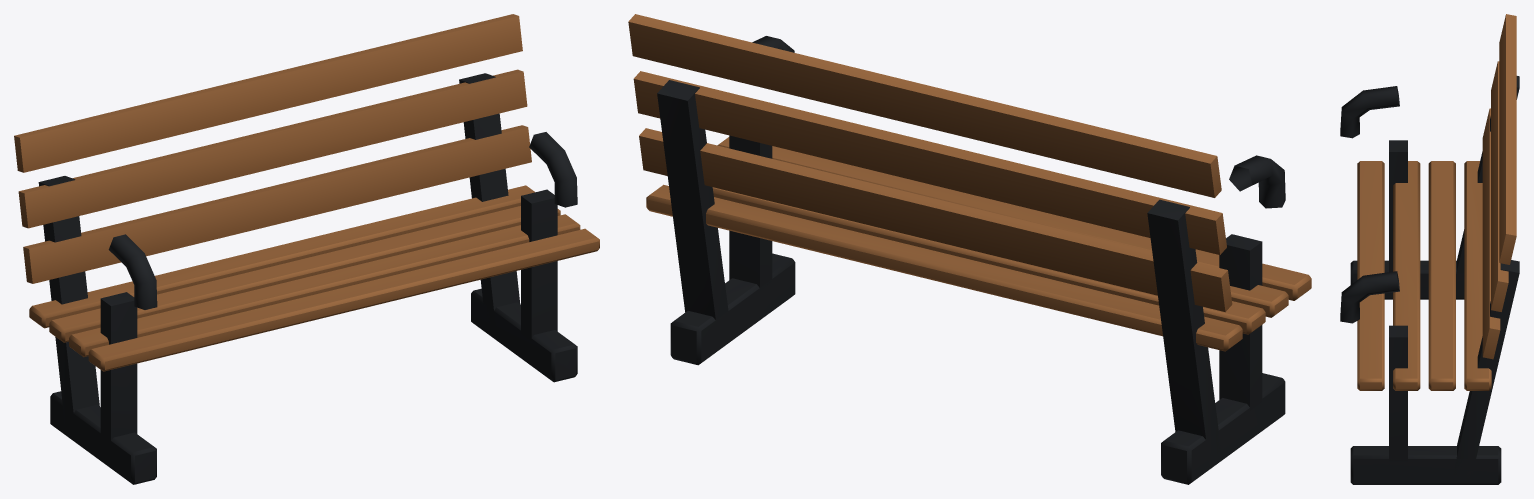
Rendered from banca.glb.
The picture shows the model from 3 angles, left to right: view 1: azimuth 30°, elevation 25°; view 2: azimuth 150°, elevation 25°; view 3: azimuth 270°, elevation 25°; orthographic projection. The views are drawn at different scales.
Visible parts, largest first — view 1: banca; view 2: banca; view 3: banca.
Part boxes in pixels (x1=…): banca: x1=14, y1=14, x2=599, y2=484; banca: x1=628, y1=14, x2=1311, y2=484; banca: x1=1340, y1=14, x2=1519, y2=484.
Size of the model in its own units: 1.9 by 1.06 by 0.6549.
